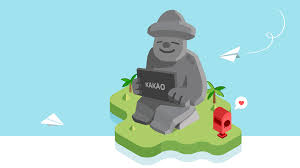Stone Statue: (131, 5, 208, 139)
